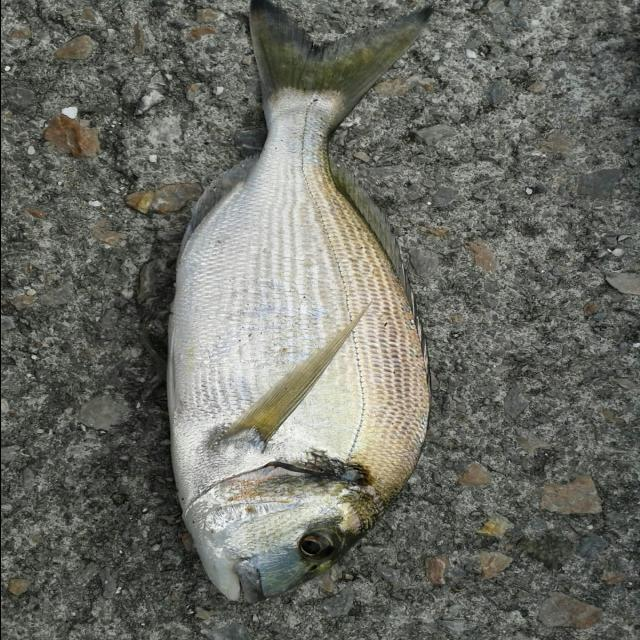Healthy Fish: (161, 0, 443, 605)
